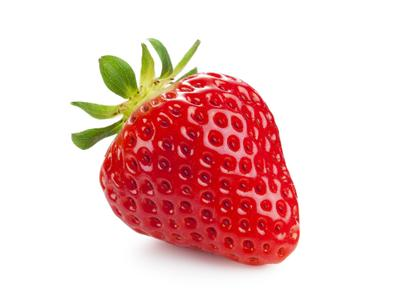strawberry: (0, 0, 400, 299)
